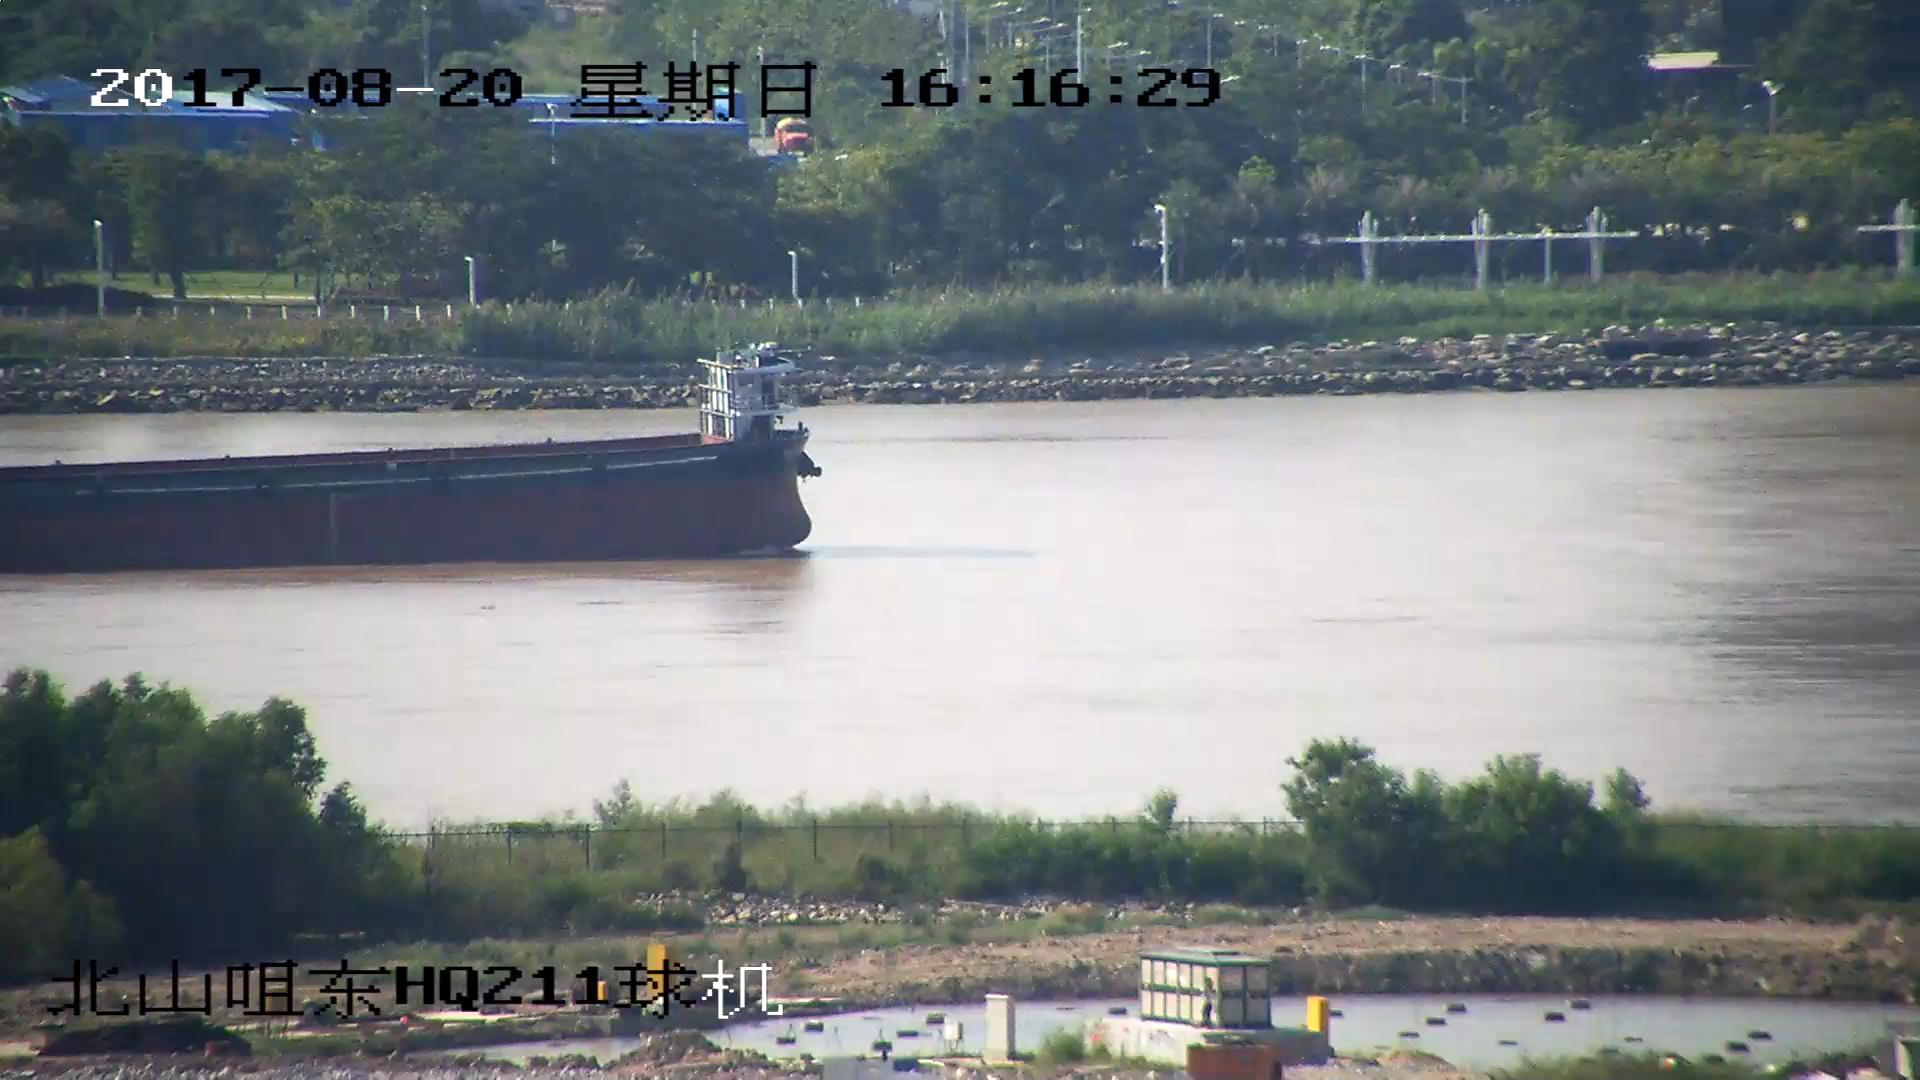Ship: (3, 345, 836, 560)
